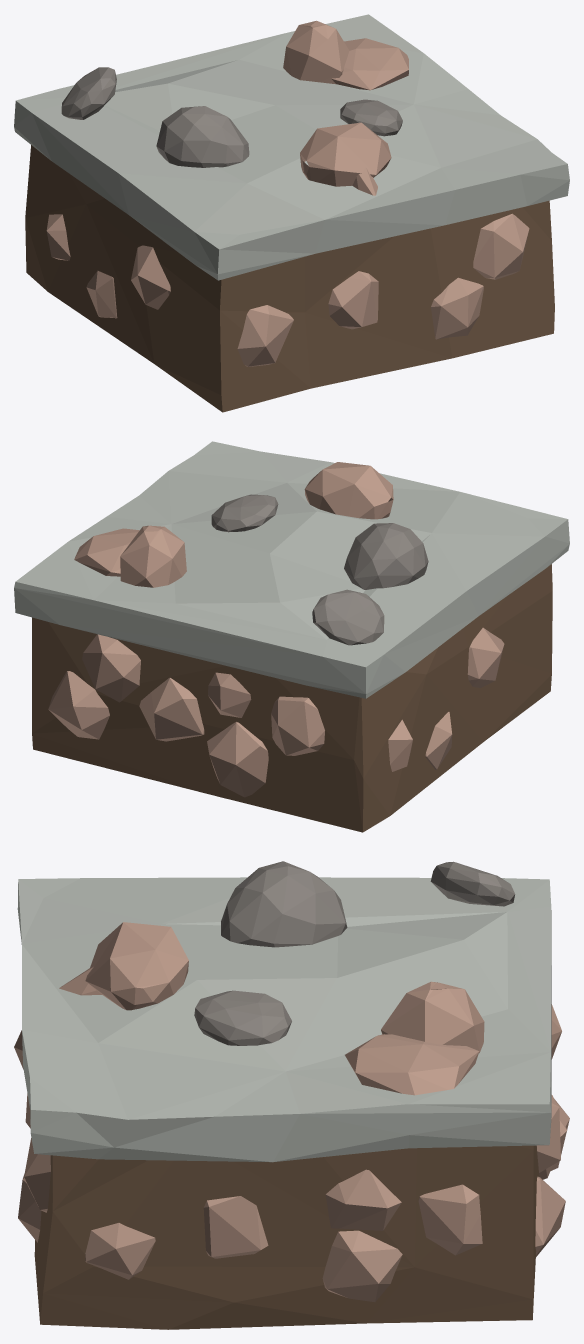
The model's file is GenericTile5.fbx.
3 renders of one model, top to bottom at view 1: azimuth 30°, elevation 25°; view 2: azimuth 150°, elevation 25°; view 3: azimuth 270°, elevation 25°, orthographic. The views are drawn at different scales.
Parts seen in each view (by area): view 1: Ground, Rocks, Top Rocks, Top Rocks.001, Sphere, Sphere.002, Sphere.001; view 2: Ground, Rocks, Top Rocks, Sphere, Top Rocks.001, Sphere.002, Sphere.001; view 3: Ground, Rocks, Top Rocks, Sphere, Top Rocks.001, Sphere.001, Sphere.002.
Boxes of the visible parts, left/top/right/bottom form: Ground: left=14, top=14, right=569, bottom=412; Rocks: left=46, top=213, right=529, bottom=366; Top Rocks: left=283, top=20, right=408, bottom=90; Top Rocks.001: left=300, top=122, right=391, bottom=195; Sphere: left=156, top=106, right=249, bottom=167; Sphere.002: left=61, top=67, right=116, bottom=119; Sphere.001: left=340, top=99, right=402, bottom=136; Ground: left=14, top=441, right=569, bottom=832; Rocks: left=48, top=627, right=504, bottom=797; Top Rocks: left=74, top=525, right=186, bottom=587; Sphere: left=344, top=523, right=428, bottom=589; Top Rocks.001: left=304, top=462, right=393, bottom=519; Sphere.002: left=312, top=589, right=384, bottom=645; Sphere.001: left=211, top=494, right=278, bottom=532; Ground: left=17, top=877, right=551, bottom=1329; Rocks: left=14, top=1004, right=569, bottom=1301; Top Rocks: left=345, top=981, right=484, bottom=1095; Sphere: left=221, top=861, right=347, bottom=947; Top Rocks.001: left=59, top=922, right=188, bottom=1010; Sphere.001: left=194, top=990, right=291, bottom=1045; Sphere.002: left=430, top=861, right=515, bottom=906.
Size of the model in its own units: 219 by 128 by 220.
